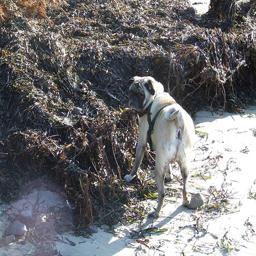dog: (186, 110, 256, 256)
